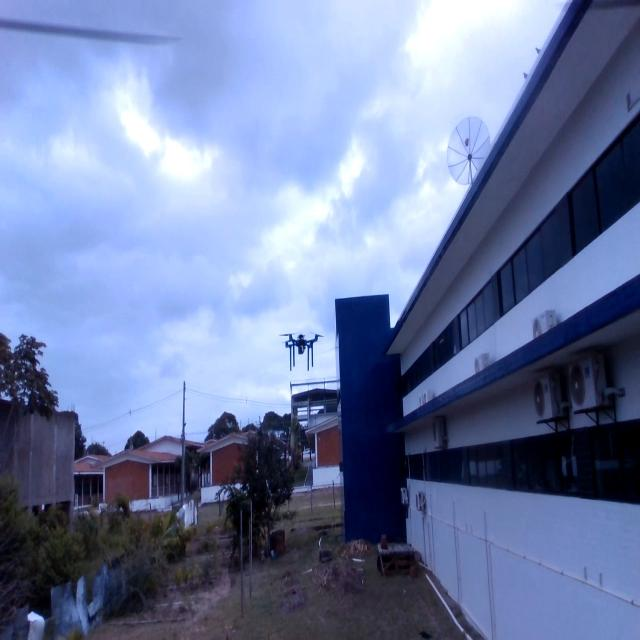-uav-: (272, 321, 326, 378)
